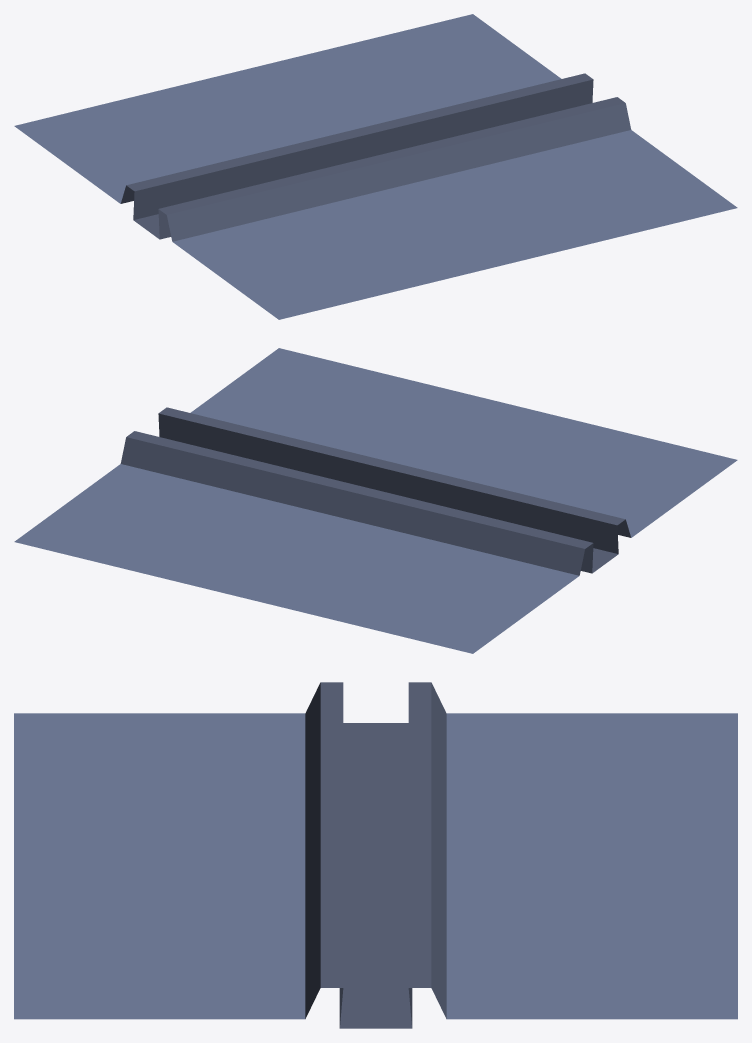
File: Floor_SawBlade.fbx
3 views of the same model, one above another, from view 1: azimuth 30°, elevation 25°; view 2: azimuth 150°, elevation 25°; view 3: azimuth 270°, elevation 25° (orthographic). The views are drawn at different scales.
Visible parts, largest first — view 1: EXPORT_Floor_SawBlade; view 2: EXPORT_Floor_SawBlade; view 3: EXPORT_Floor_SawBlade.
Boxes of the visible parts, x1,y1,x2,y2 form: EXPORT_Floor_SawBlade: (14, 14, 737, 319); EXPORT_Floor_SawBlade: (14, 348, 737, 653); EXPORT_Floor_SawBlade: (14, 682, 737, 1028).
Size of the model in its own units: 211 by 13.05 by 211.
